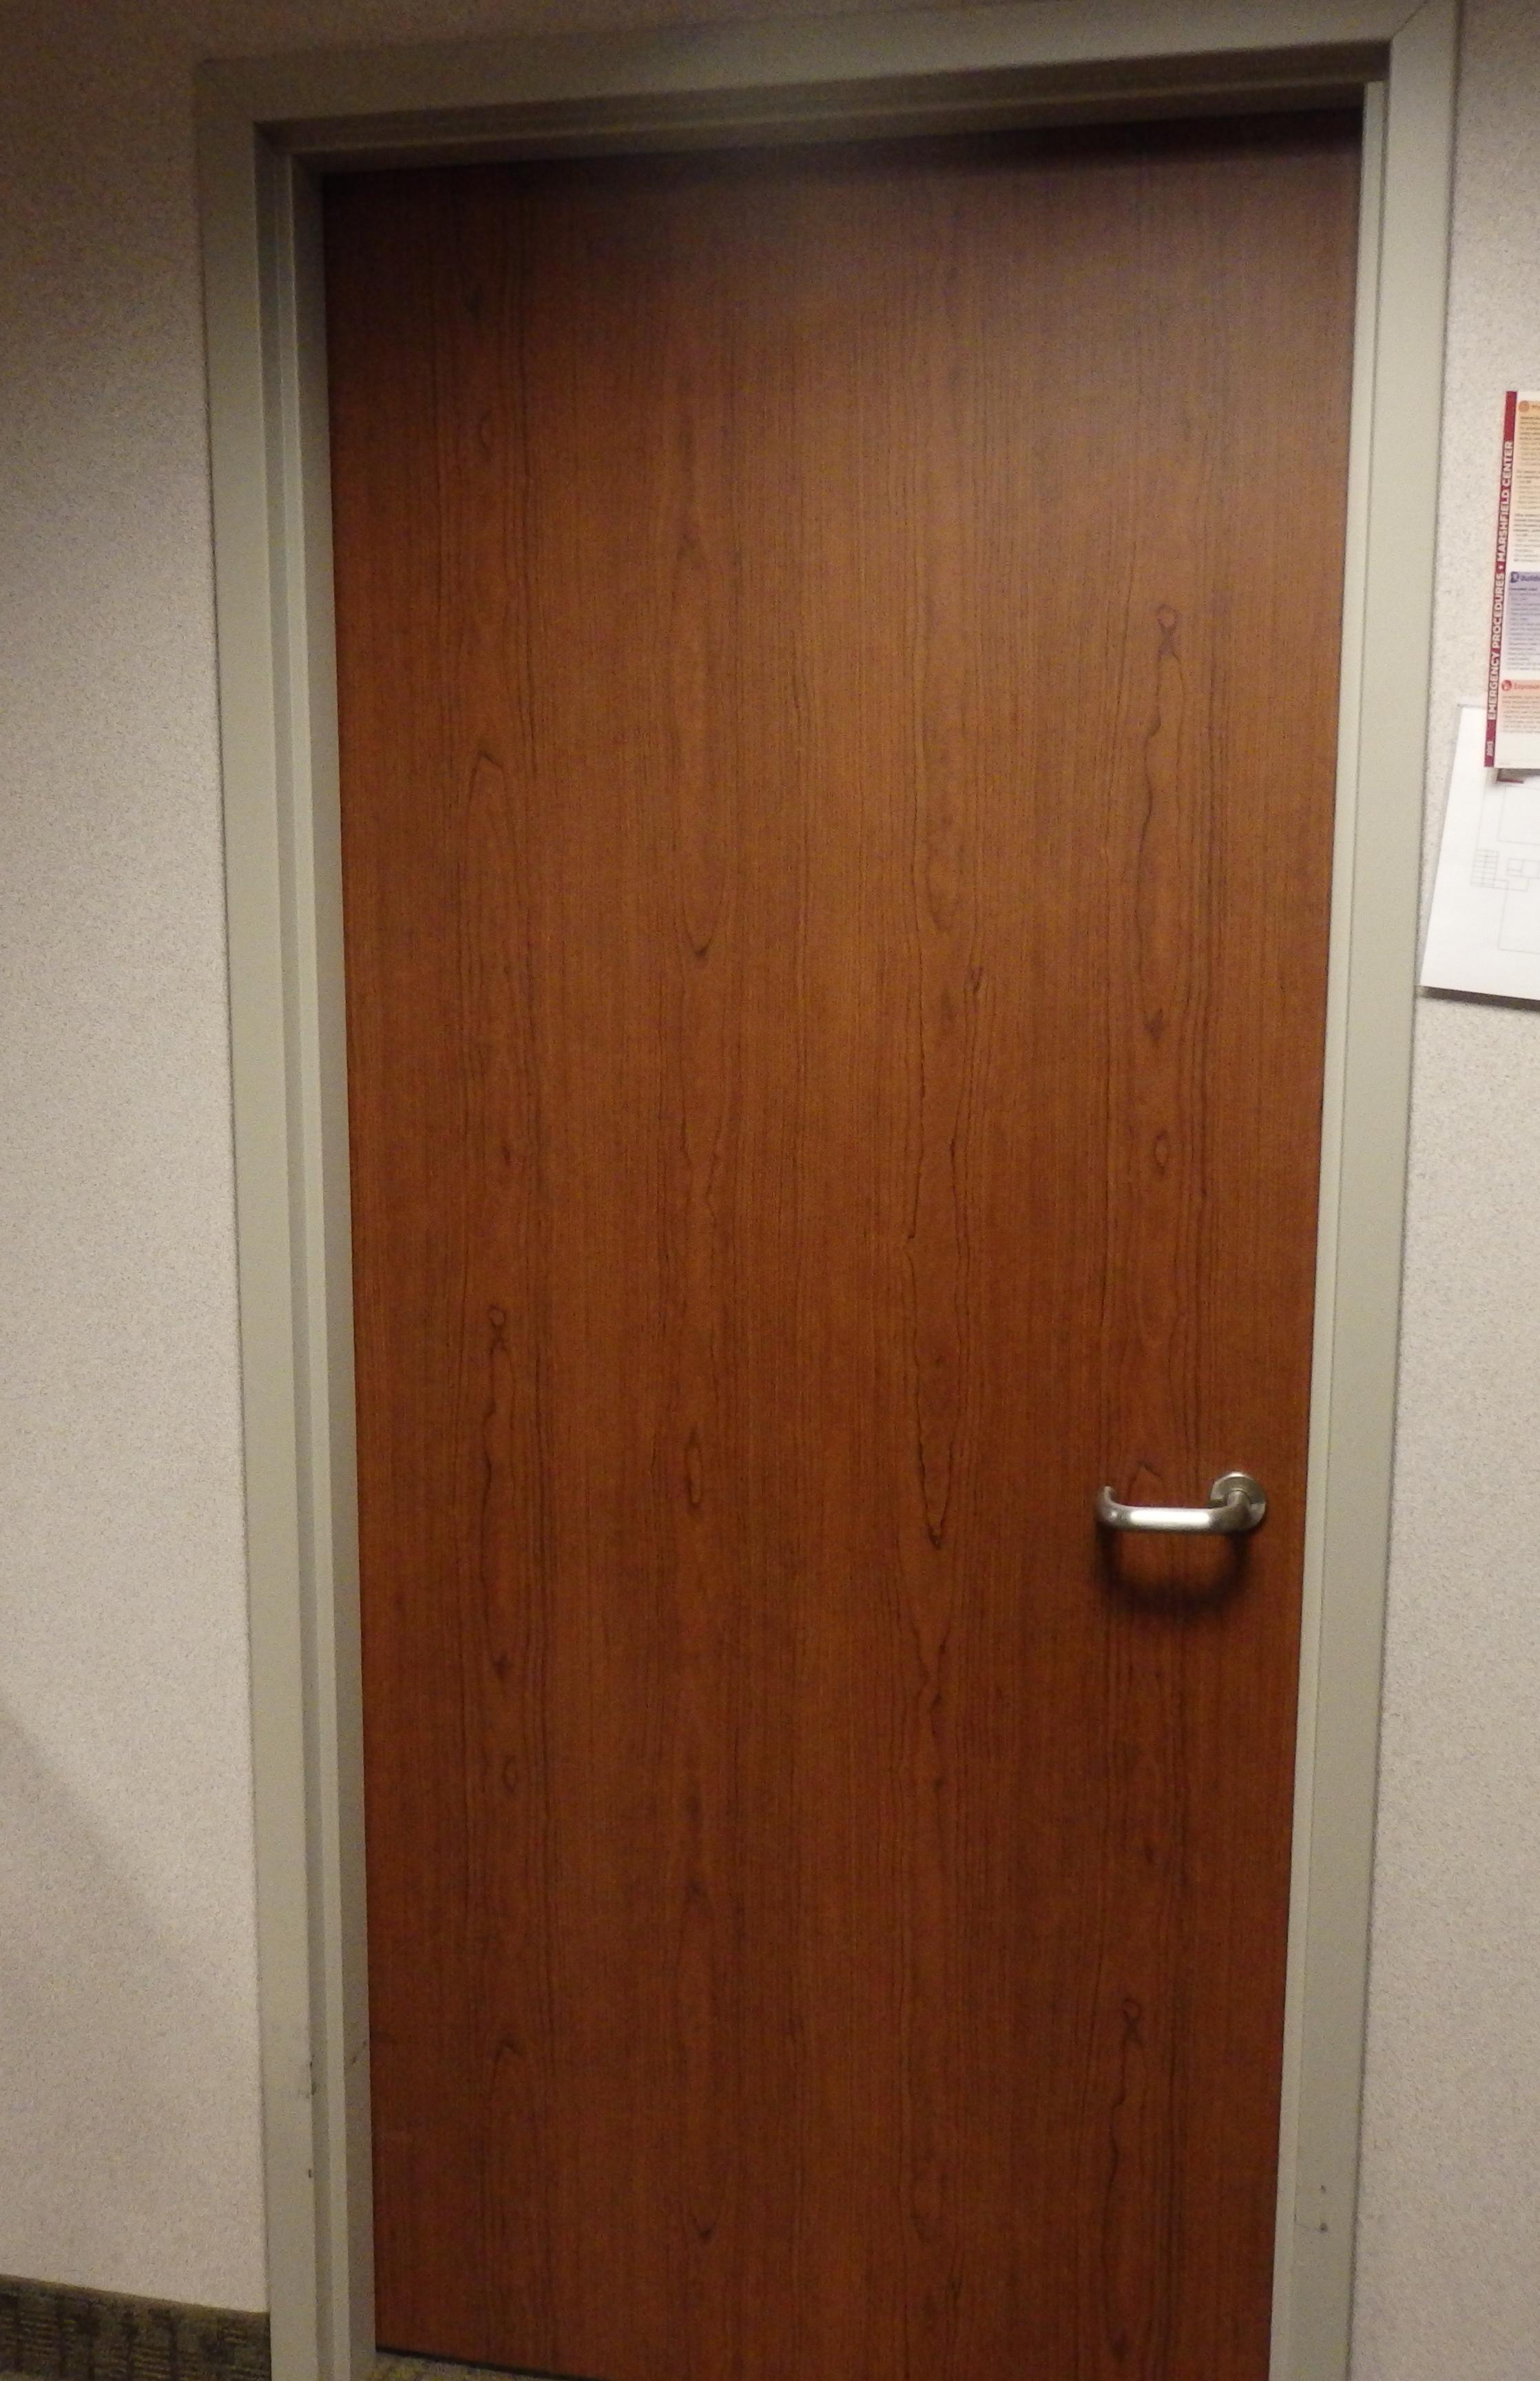door: (283, 61, 1408, 2381)
